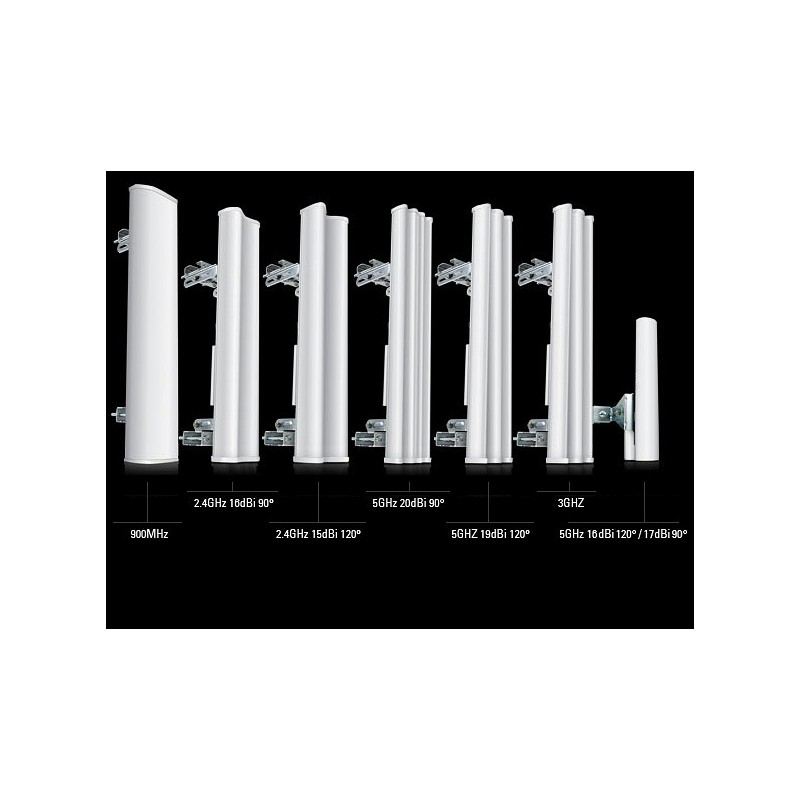sa: (107, 183, 193, 495), (215, 198, 267, 472)
